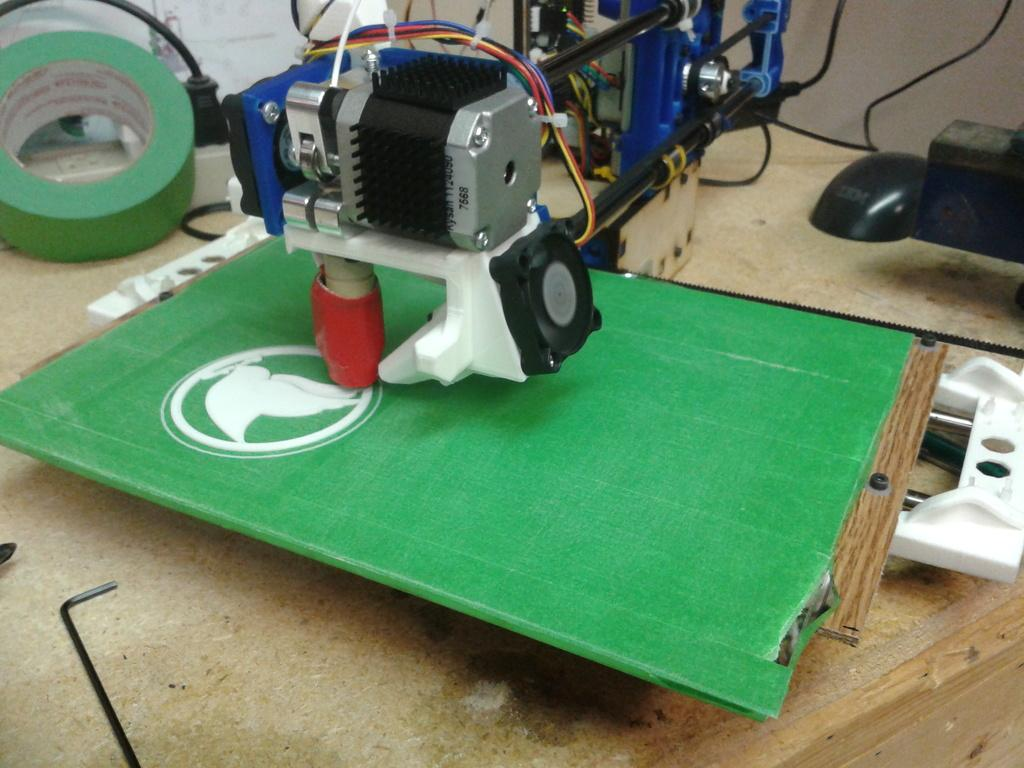Computer-mouse: (806, 151, 928, 244)
